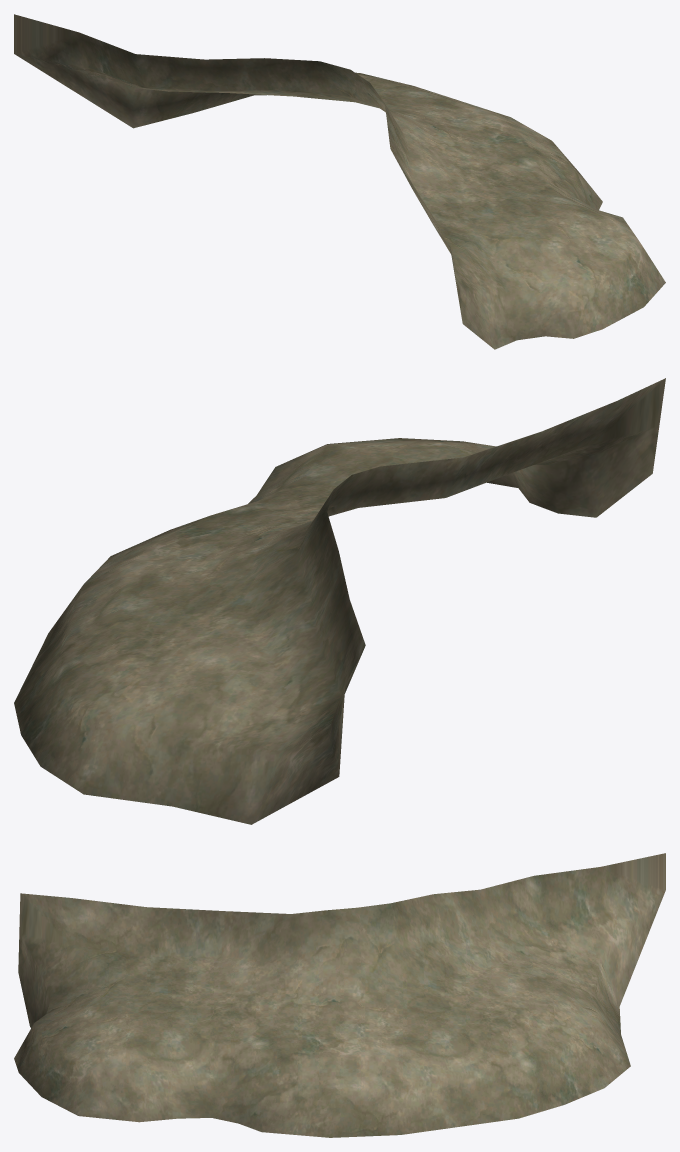
File: OVERHILL_A_01_OBJECT212.fbx
The picture shows the model from 3 angles, top to bottom: view 1: azimuth 30°, elevation 25°; view 2: azimuth 150°, elevation 25°; view 3: azimuth 270°, elevation 25°; orthographic projection. The views are drawn at different scales.
Visible parts, largest first — view 1: OVERHILL_A_01_OBJECT212; view 2: OVERHILL_A_01_OBJECT212; view 3: OVERHILL_A_01_OBJECT212.
Boxes of the visible parts, x1,y1,x2,y2 form: OVERHILL_A_01_OBJECT212: [14, 14, 665, 349]; OVERHILL_A_01_OBJECT212: [14, 378, 665, 824]; OVERHILL_A_01_OBJECT212: [14, 853, 665, 1137].
Bounding box in the file's own units: 92077 × 33411 × 145594.
Materials: 1 (1 with a texture image).
